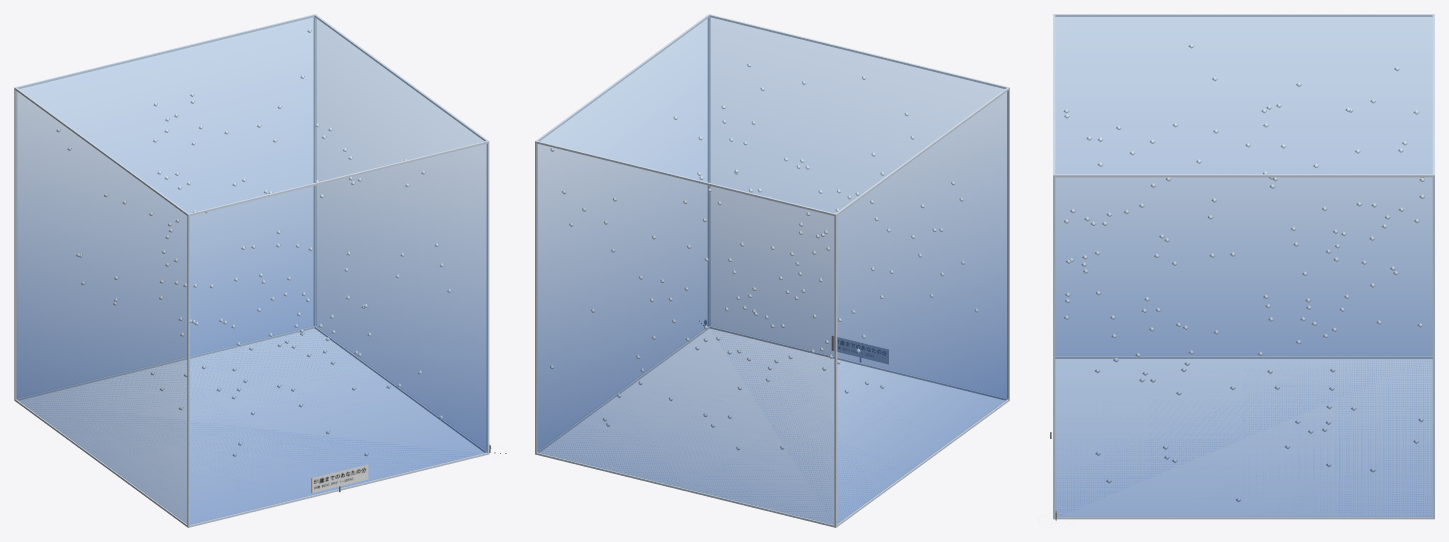
File: cube_life_51.glb
3 renders of one model, left to right at view 1: azimuth 30°, elevation 25°; view 2: azimuth 150°, elevation 25°; view 3: azimuth 270°, elevation 25°, orthographic. The views are drawn at different scales.
Parts seen in each view (by area): view 1: co2, edge, dots, label; view 2: co2, edge, dots, label; view 3: co2, edge, dots.
Part boxes in pixels (x1=…): co2: x1=16, y1=15, x2=486, y2=524; edge: x1=14, y1=14, x2=489, y2=527; dots: x1=56, y1=28, x2=451, y2=456; label: x1=311, y1=464, x2=368, y2=492; co2: x1=537, y1=15, x2=1007, y2=524; edge: x1=535, y1=14, x2=1009, y2=527; dots: x1=550, y1=63, x2=978, y2=450; label: x1=832, y1=336, x2=888, y2=364; co2: x1=1055, y1=14, x2=1433, y2=516; edge: x1=1053, y1=14, x2=1434, y2=519; dots: x1=1063, y1=43, x2=1424, y2=502.
Size of the model in its own units: 66.55 by 62.8 by 65.65.
8 materials, 3 textured.
